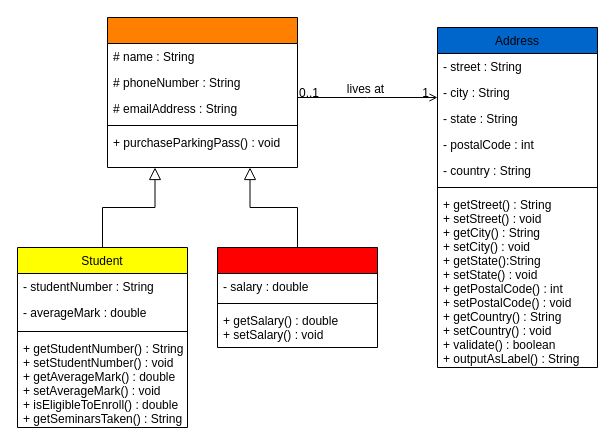
This 615x448 diagram has some shape labels left out. Each missing label, with the box of its shape:
Person: (106, 16, 298, 168)
Professor: (216, 246, 378, 348)
